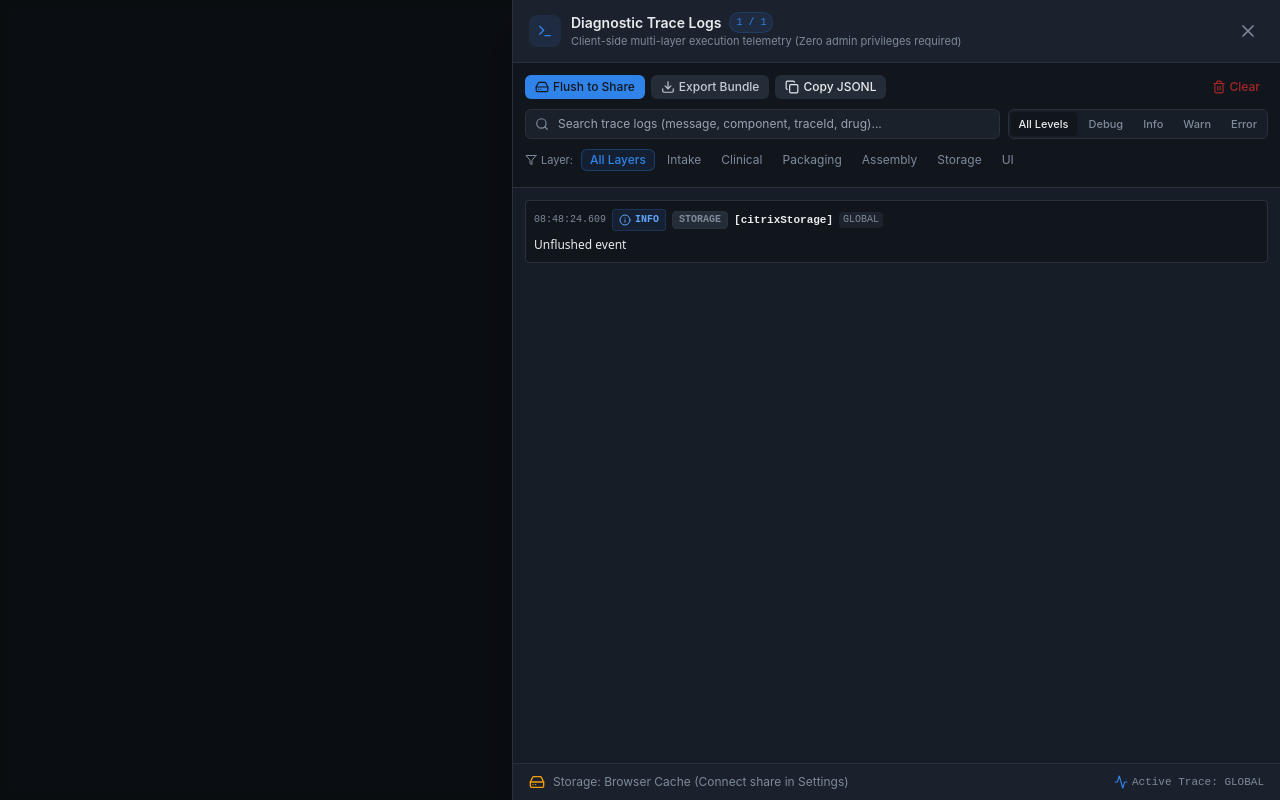
Test: TraceLogDrawer › displays error feedback and retry button when flush fails
Click the button titled "Flush pending memory traces".
click(585, 86)  # box [525, 74, 645, 98]
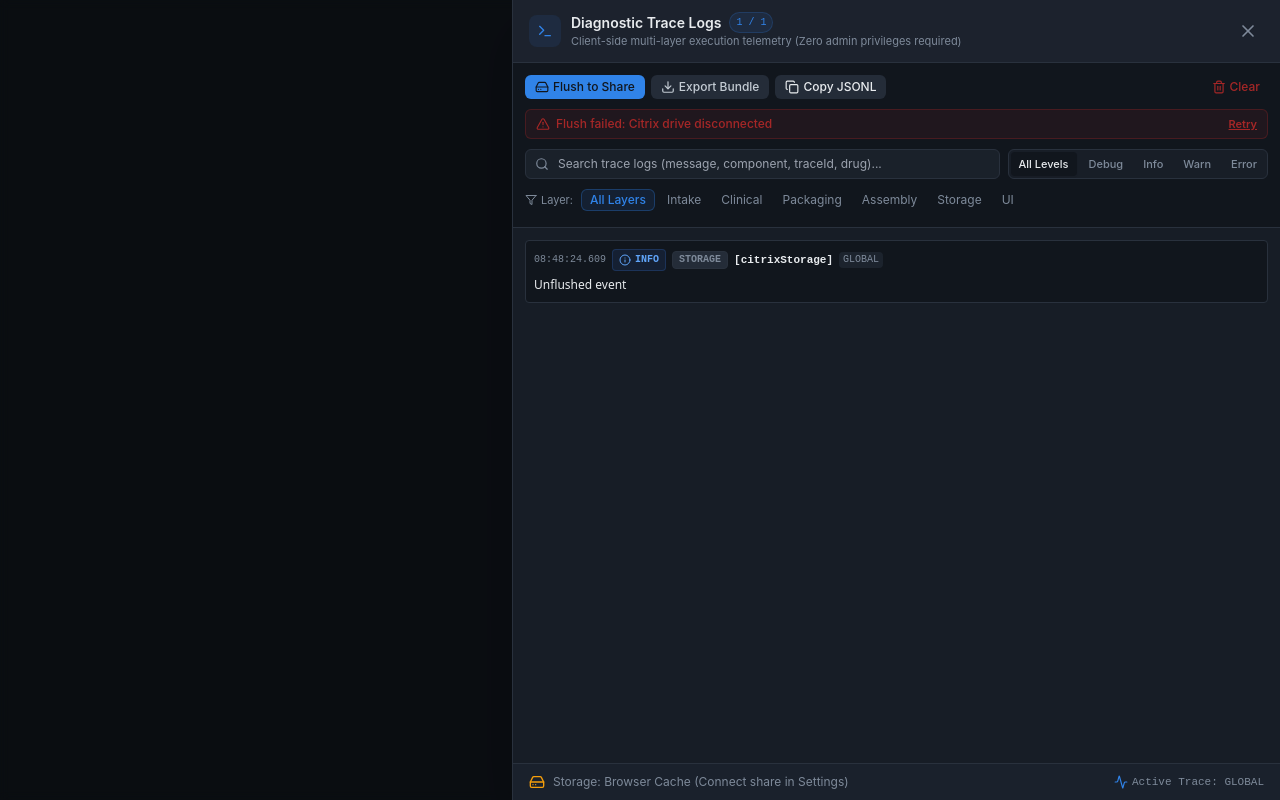
expect the element with test id "flush-feedback-banner" shows "Flush failed: Citrix drive disconnected": met, box [556, 116, 772, 130]
expect the button "Retry" is shown: met, box [1229, 116, 1257, 132]
